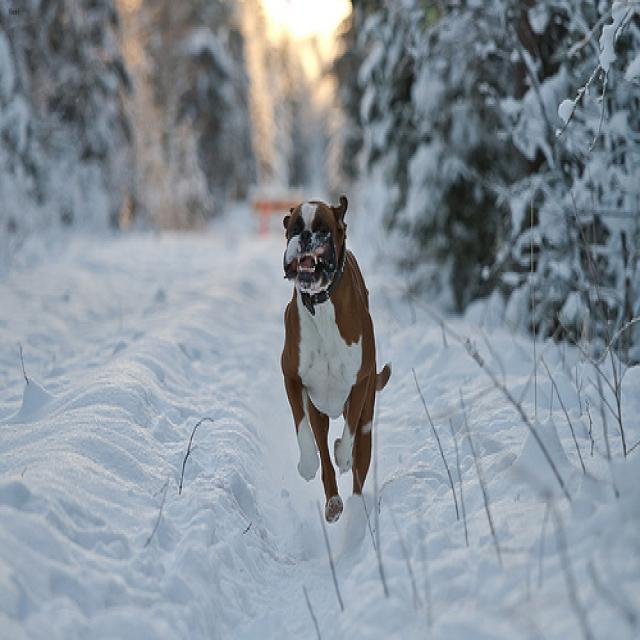dog-boxer: (275, 185, 396, 528)
